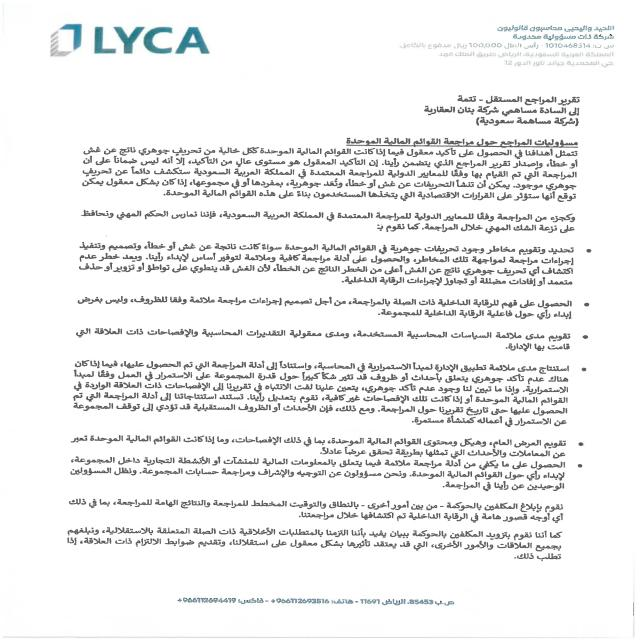auditor_report: (339, 127, 589, 148), (442, 88, 583, 106)
